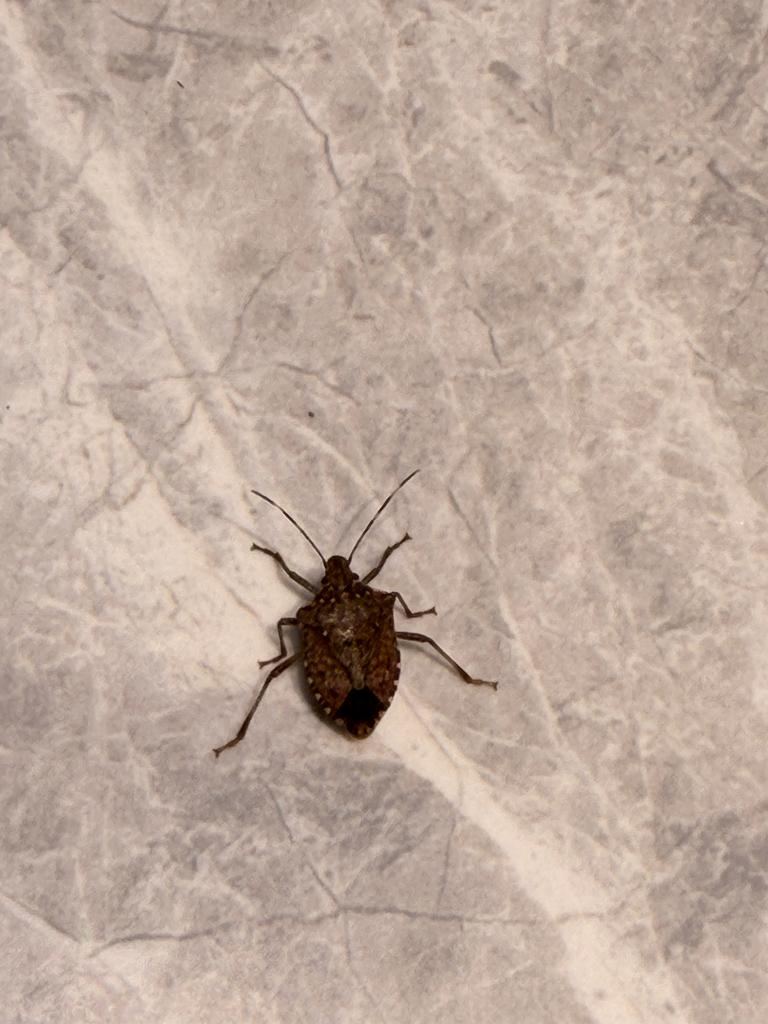stink_bugs: (165, 448, 553, 813)
